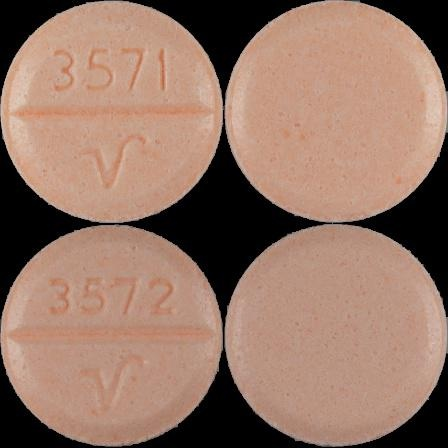0603-3856: (0, 0, 224, 224)
